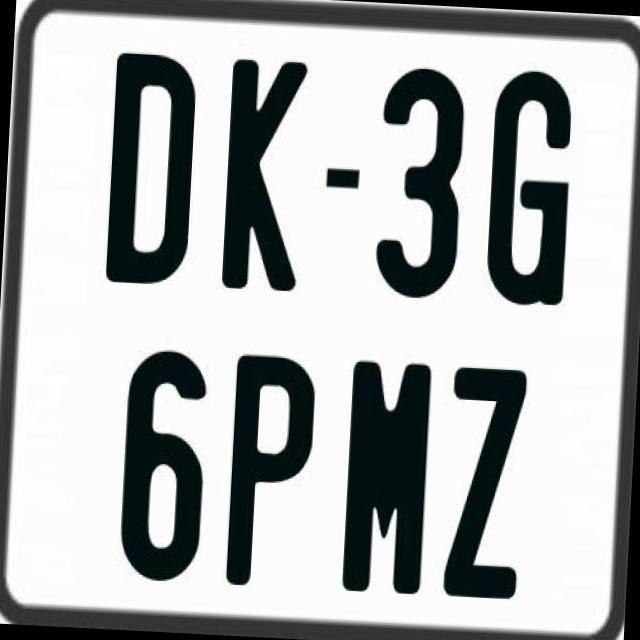3: (372, 65, 472, 300)
6: (118, 343, 213, 588)
D: (106, 49, 206, 284)
G: (485, 66, 575, 304)
K: (217, 58, 311, 296)
M: (338, 355, 433, 598)
P: (227, 350, 326, 584)
Z: (442, 364, 530, 606)
